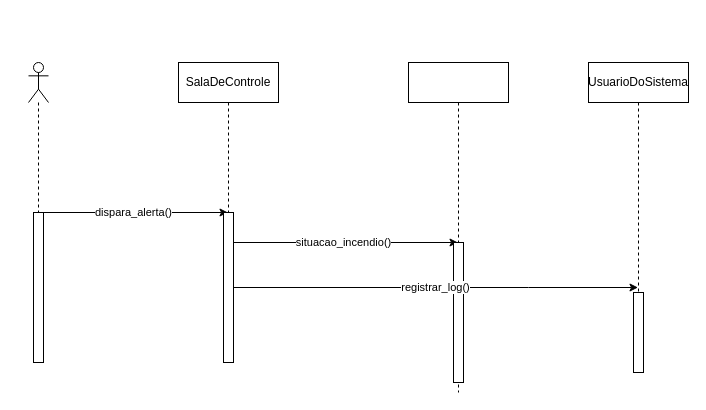
Some shapes in this 706 by 410 pixel diagram are drawn without their labels. Each missing label, with the box of its shape:
Elevador: (408, 62, 508, 392)
Usuario Do Sistema: (28, 62, 48, 362)
